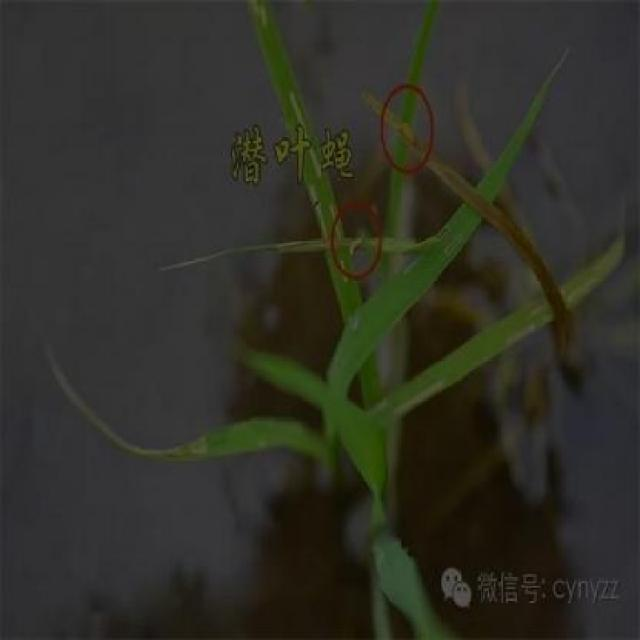whorl-maggot: (349, 229, 365, 265)
